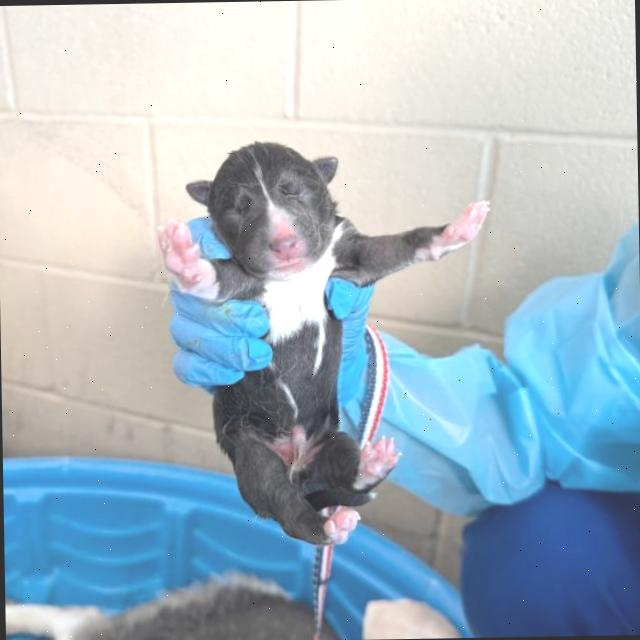siberian_husky_dog: (178, 133, 346, 291)
